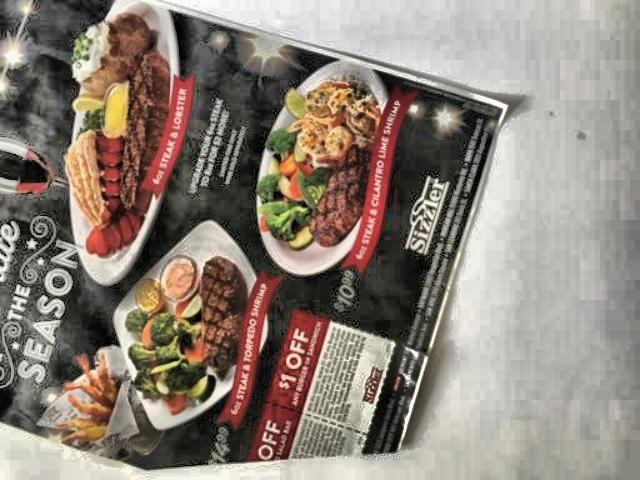Paper: (0, 0, 505, 480)
